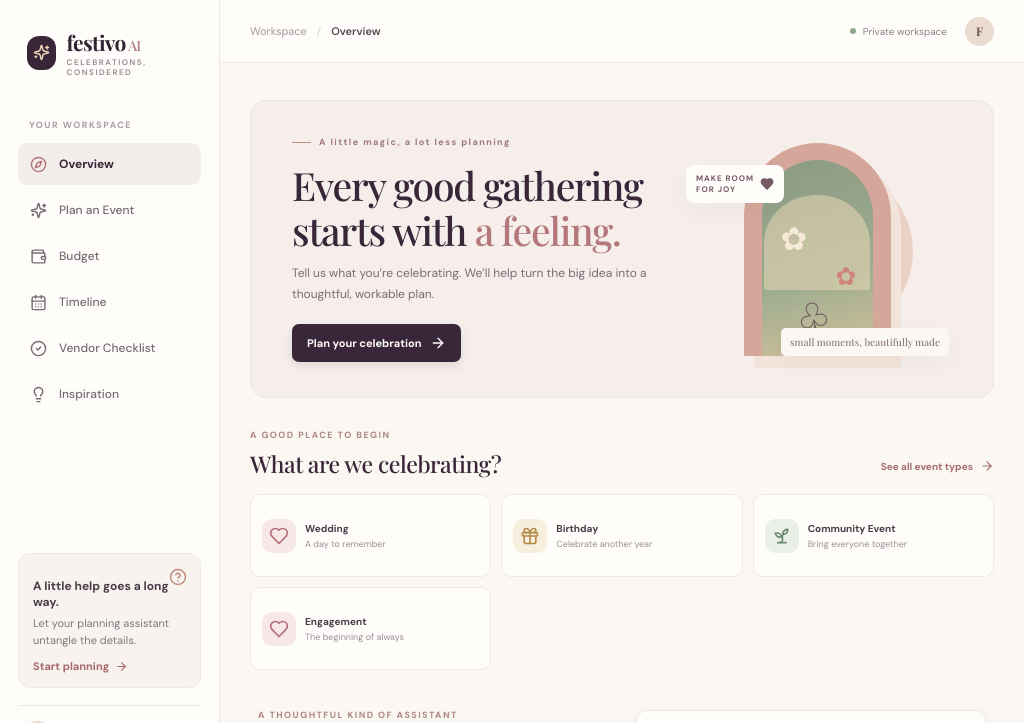
Test case: planning workflow › keeps a usable local plan when the live route is unavailable
Click the button "Plan your celebration": (377, 344) top-left (292, 324), bottom-right (462, 362)
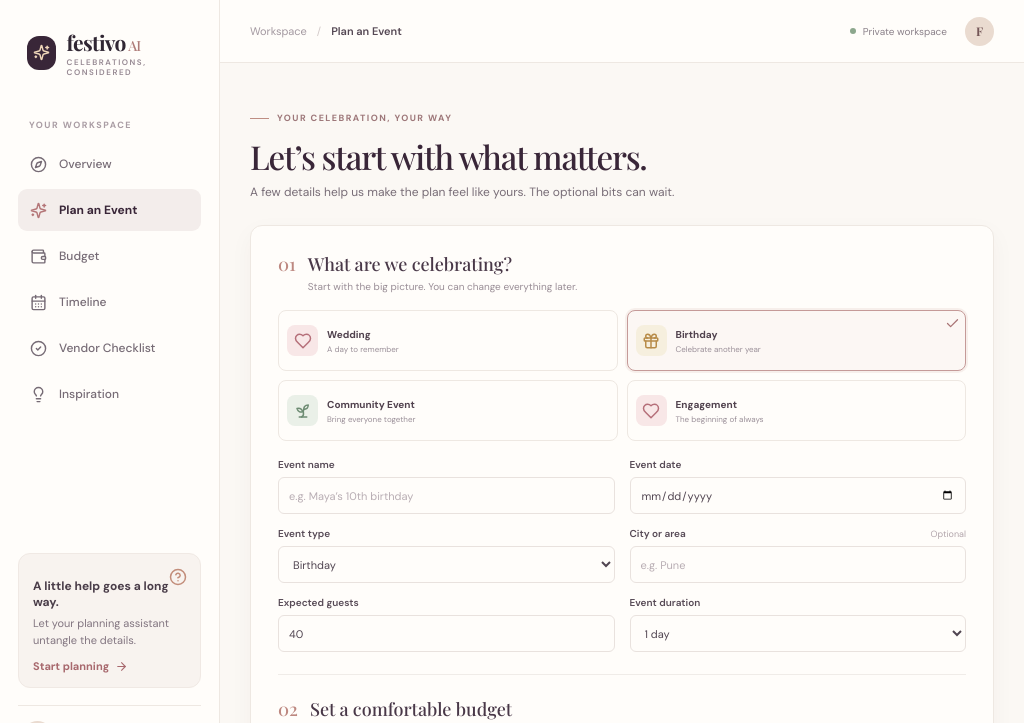
In the field labelled "Event name": (446, 496) top-left (278, 477), bottom-right (614, 514), type "Maya’s birthday"
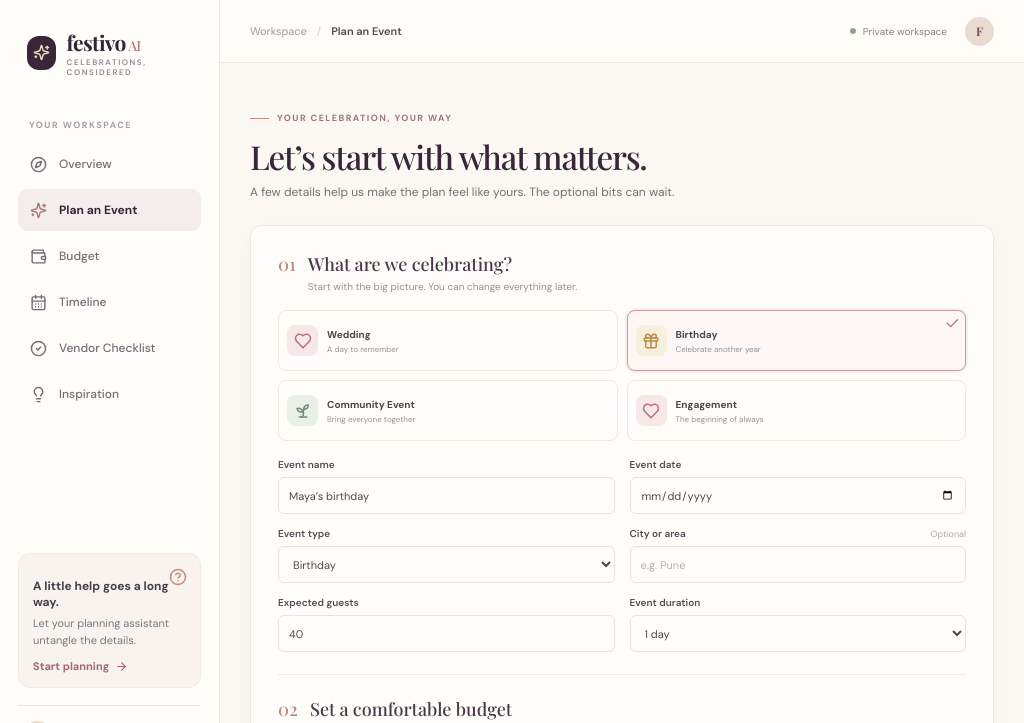
In the date field labelled "Event date": (798, 496) top-left (630, 477), bottom-right (966, 514), type "2027-06-20"
(page scrolled)
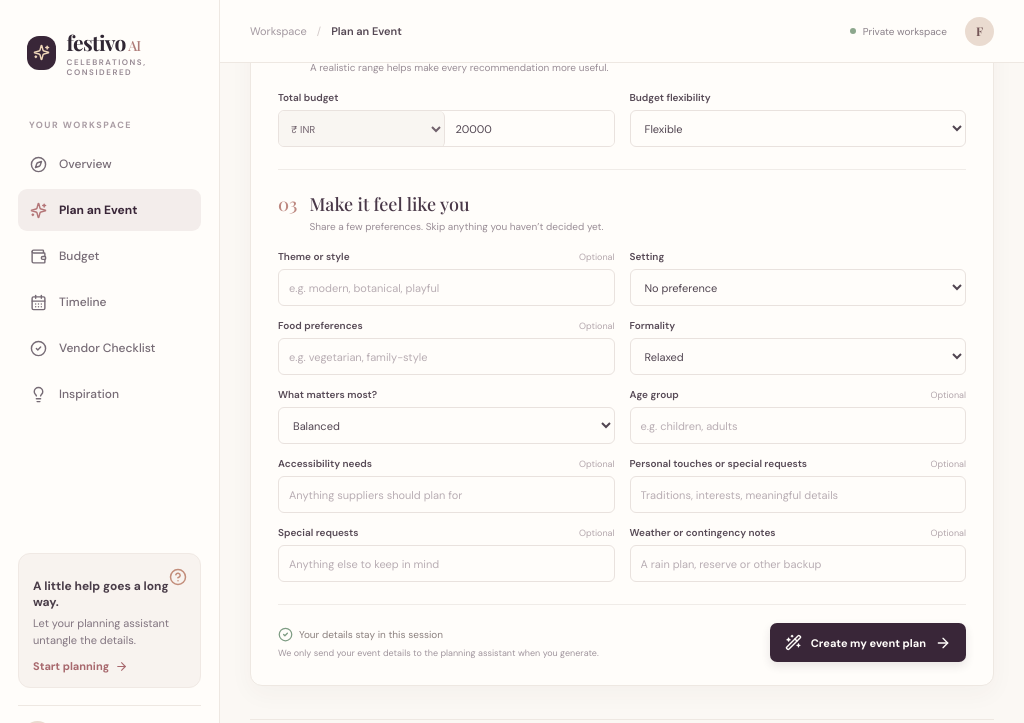
Click the button "Create my event plan": (868, 643) top-left (770, 623), bottom-right (966, 662)
(page scrolled)
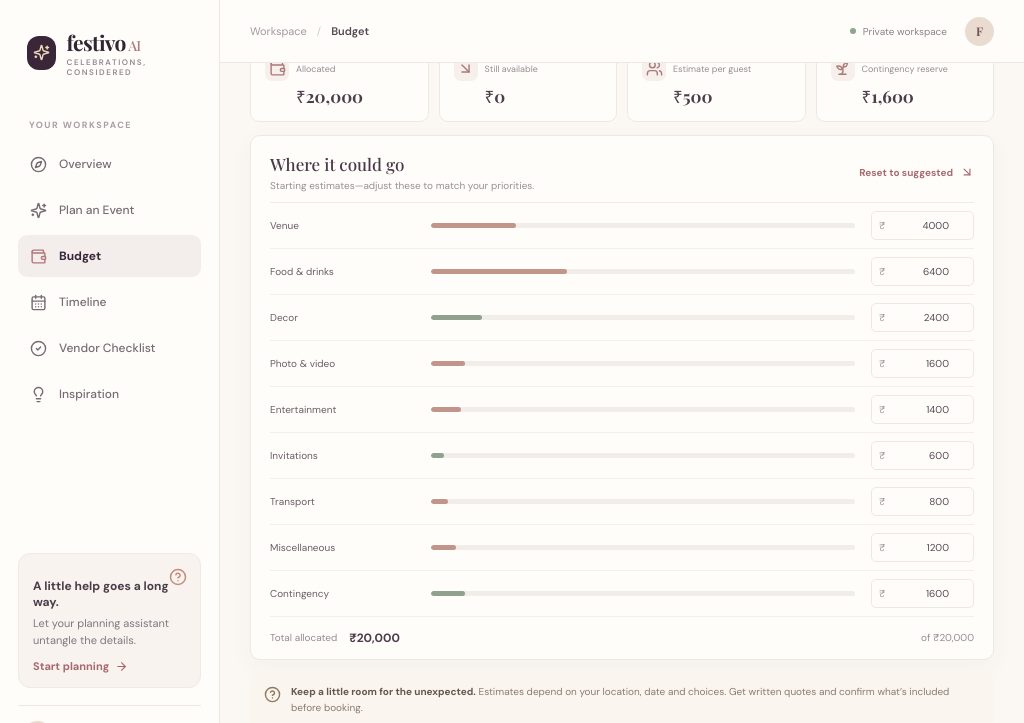
Now the text "Venue" is shown, box top-left (270, 219), bottom-right (299, 232)
